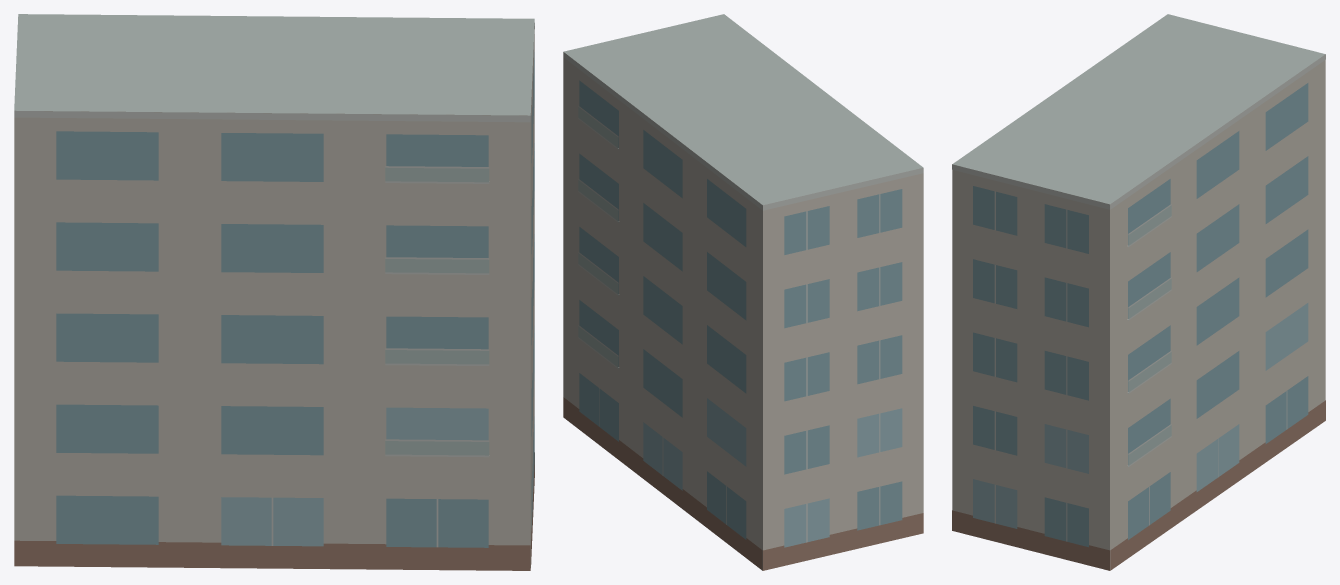
File: survey-upis-32808356.glb
3 renders of one model, left to right at view 1: azimuth 30°, elevation 25°; view 2: azimuth 150°, elevation 25°; view 3: azimuth 270°, elevation 25°, orthographic. The views are drawn at different scales.
Visible parts, largest first — view 1: survey-upis-32808356.tmp; view 2: survey-upis-32808356.tmp; view 3: survey-upis-32808356.tmp.
Boxes of the visible parts, x1,y1,x2,y2 form: survey-upis-32808356.tmp: [14, 14, 534, 570]; survey-upis-32808356.tmp: [563, 14, 923, 570]; survey-upis-32808356.tmp: [952, 14, 1325, 570].
Size of the model in its own units: 18.17 by 16.3 by 15.07.
